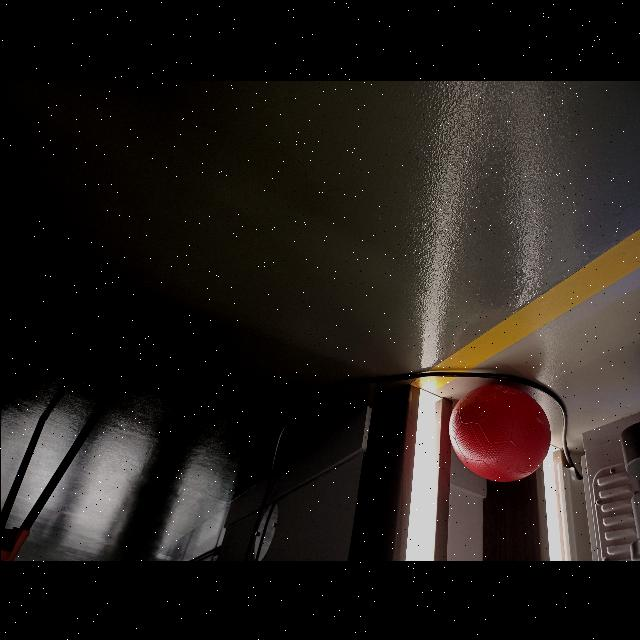R: (448, 382, 550, 482)
